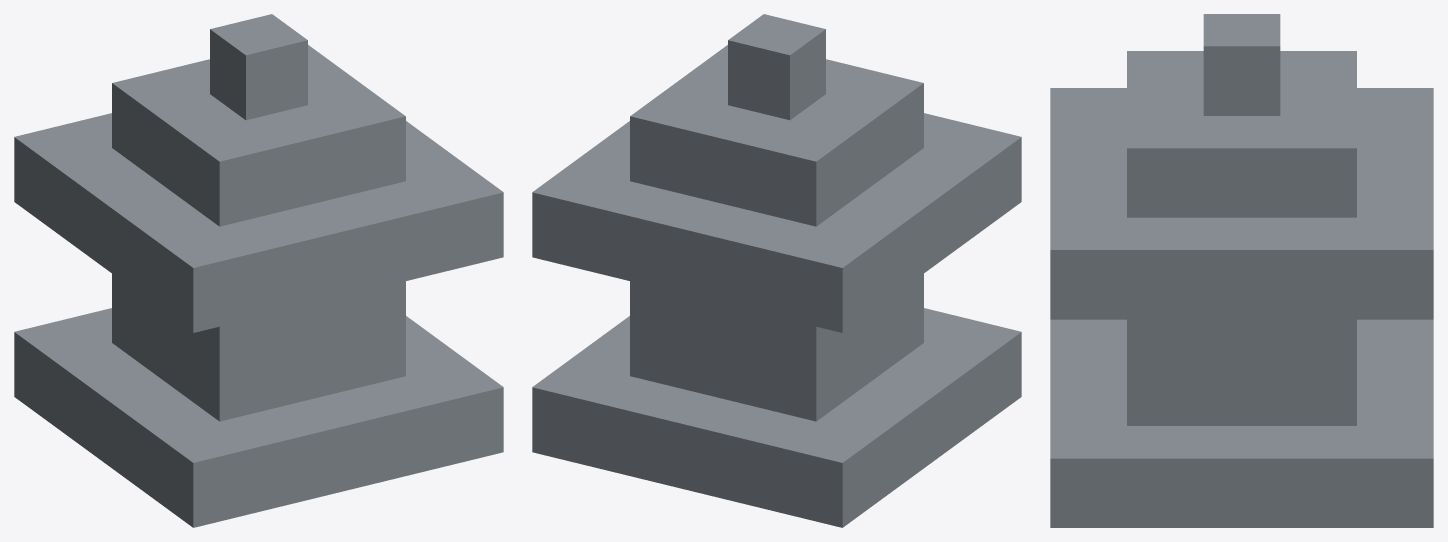
The model's file is roca3.fbx.
The picture shows the model from 3 angles, left to right: view 1: azimuth 30°, elevation 25°; view 2: azimuth 150°, elevation 25°; view 3: azimuth 270°, elevation 25°; orthographic projection. The views are drawn at different scales.
Parts seen in each view (by area): view 1: Roca3; view 2: Roca3; view 3: Roca3.
Boxes of the visible parts, x1,y1,x2,y2 form: Roca3: (14, 14, 503, 527); Roca3: (532, 14, 1021, 527); Roca3: (1050, 14, 1433, 527).
Bounding box in the file's own units: 1 × 1.2 × 1.
1 material, 1 textured.
